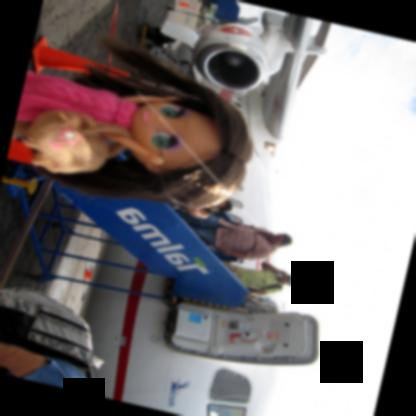backpack: (0, 287, 91, 370), (263, 283, 282, 292)
handbag: (17, 107, 135, 178), (197, 234, 218, 251)
suitcase: (194, 234, 215, 252)
